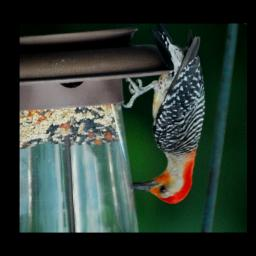Woodpecker: (123, 25, 209, 205)
